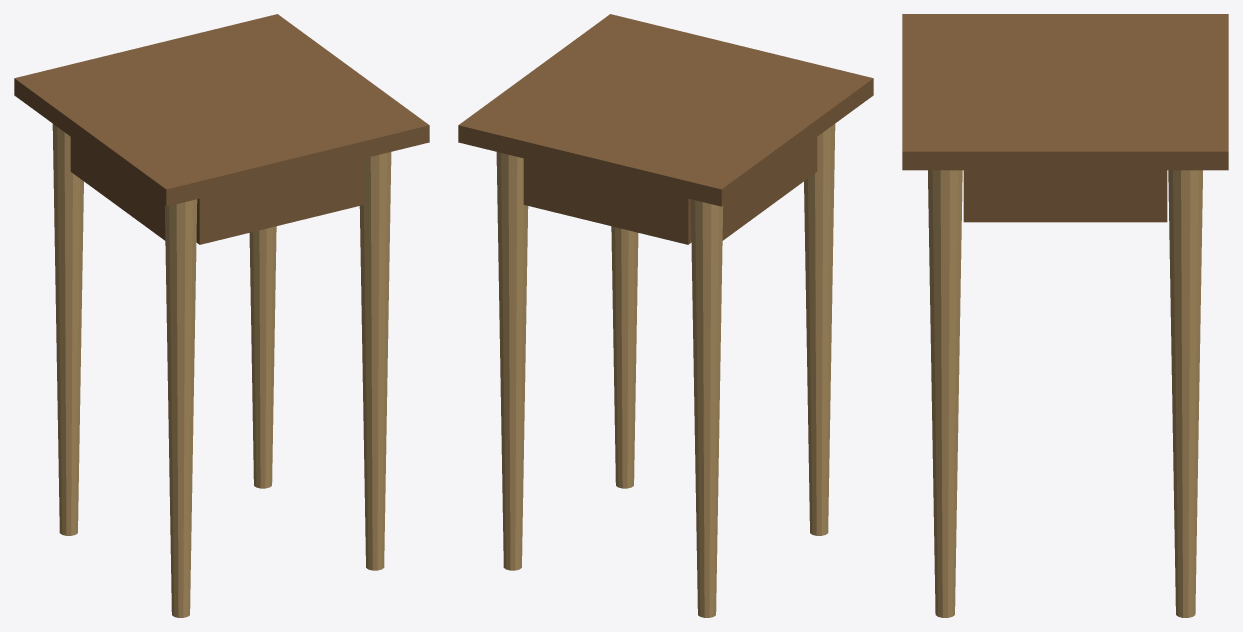
The model's file is ATL-STL-counter.glb.
3 renders of one model, left to right at view 1: azimuth 30°, elevation 25°; view 2: azimuth 150°, elevation 25°; view 3: azimuth 270°, elevation 25°, orthographic. The views are drawn at different scales.
Visible parts, largest first — view 1: top:pbr, leg-fl:pbr, leg-fr:pbr, leg-bl:pbr, apron-f:pbr, leg-br:pbr, apron-l:pbr; view 2: top:pbr, leg-bl:pbr, leg-br:pbr, leg-fl:pbr, apron-b:pbr, leg-fr:pbr, apron-l:pbr; view 3: top:pbr, leg-fr:pbr, leg-br:pbr, apron-r:pbr.
Boxes of the visible parts, x1=… form: top:pbr: x1=14, y1=14, x2=429, y2=206; leg-fl:pbr: x1=164, y1=199, x2=197, y2=617; leg-fr:pbr: x1=359, y1=152, x2=391, y2=570; leg-bl:pbr: x1=52, y1=124, x2=83, y2=535; apron-f:pbr: x1=196, y1=158, x2=364, y2=244; leg-br:pbr: x1=249, y1=226, x2=276, y2=488; apron-l:pbr: x1=70, y1=137, x2=165, y2=240; top:pbr: x1=458, y1=14, x2=873, y2=206; leg-bl:pbr: x1=690, y1=199, x2=723, y2=617; leg-br:pbr: x1=496, y1=152, x2=528, y2=570; leg-fl:pbr: x1=804, y1=124, x2=835, y2=535; apron-b:pbr: x1=523, y1=158, x2=691, y2=244; leg-fr:pbr: x1=611, y1=226, x2=638, y2=488; apron-l:pbr: x1=722, y1=137, x2=817, y2=240; top:pbr: x1=902, y1=14, x2=1228, y2=170; leg-fr:pbr: x1=928, y1=170, x2=962, y2=617; leg-br:pbr: x1=1168, y1=170, x2=1202, y2=617; apron-r:pbr: x1=963, y1=170, x2=1167, y2=222.
Size of the model in its own units: 0.4 by 0.65 by 0.4.
